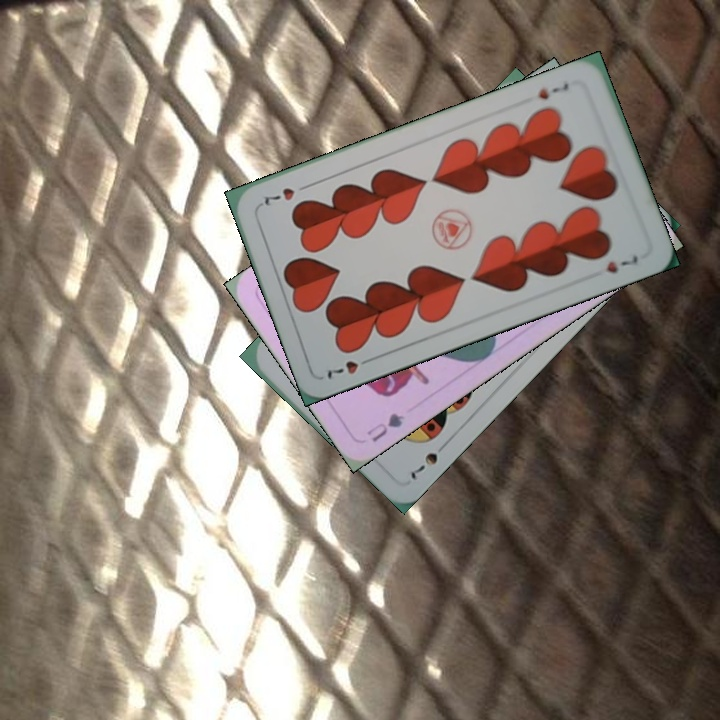GU: (363, 409, 407, 445)
H7: (321, 352, 378, 381), (534, 78, 571, 103)
S7: (406, 448, 441, 484)
